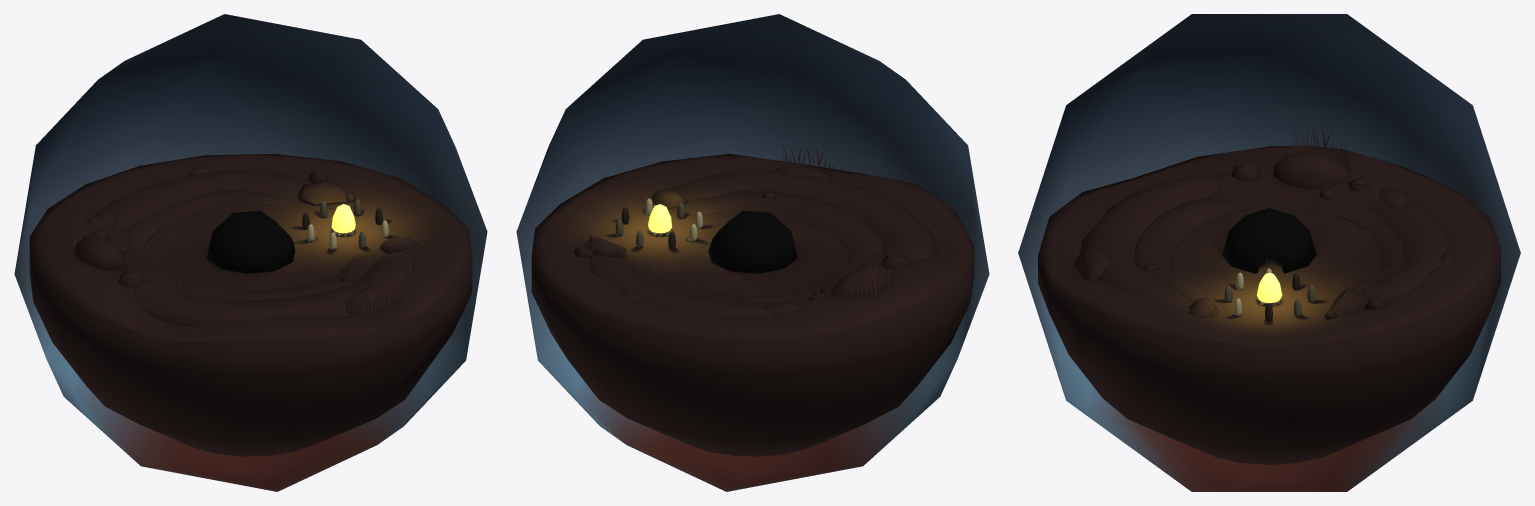
The picture shows the model from 3 angles, left to right: view 1: azimuth 30°, elevation 25°; view 2: azimuth 150°, elevation 25°; view 3: azimuth 270°, elevation 25°; orthographic projection. The views are drawn at different scales.
Parts seen in each view (by area): view 1: ground.003, envirosphere.008, lodge.003, GRASS.018, flame.002; view 2: ground.003, envirosphere.008, lodge.003, flame.002, GRASS.019; view 3: ground.003, envirosphere.008, lodge.003, flame.002, GRASS.019.
Boxes of the visible parts, bbox=[...] form: ground.003: bbox=[29, 153, 472, 456]; envirosphere.008: bbox=[14, 14, 487, 491]; lodge.003: bbox=[207, 210, 295, 273]; GRASS.018: bbox=[348, 273, 401, 316]; flame.002: bbox=[331, 204, 355, 233]; ground.003: bbox=[531, 154, 974, 456]; envirosphere.008: bbox=[516, 14, 989, 491]; lodge.003: bbox=[708, 210, 797, 273]; flame.002: bbox=[648, 204, 672, 233]; GRASS.019: bbox=[843, 261, 891, 296]; ground.003: bbox=[1038, 145, 1500, 464]; envirosphere.008: bbox=[1018, 14, 1520, 491]; lodge.003: bbox=[1222, 208, 1316, 273]; flame.002: bbox=[1256, 272, 1282, 303]; GRASS.019: bbox=[1290, 130, 1349, 170].
Size of the model in its own units: 13.02 by 13.69 by 13.69.
Materials: 11 (3 with a texture image).
